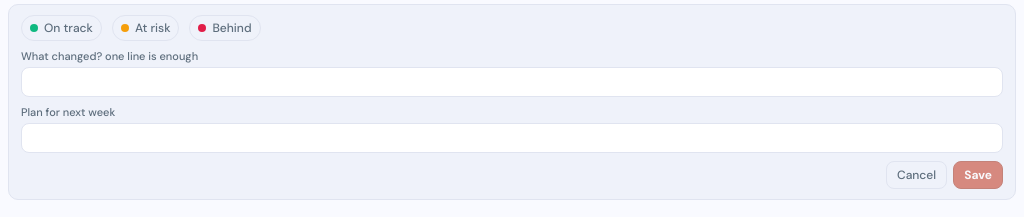
CheckInPanel › disables Save until a status is selected
The width and height of the screenshot is (1024, 217).
Expected: the button "Save" is disabled, [953, 161, 1003, 189]
Step 1. Click the radio button labelled "On track" → (61, 28), box [21, 15, 102, 41]
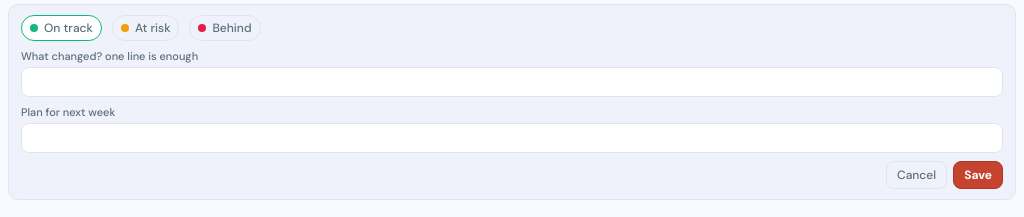
Now the button "Save" is enabled, box [953, 161, 1003, 189]
